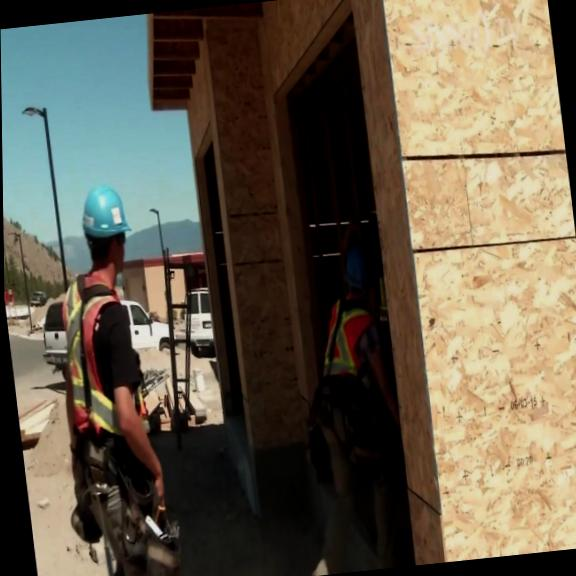safety_vest: (53, 266, 148, 443), (309, 288, 381, 384)
